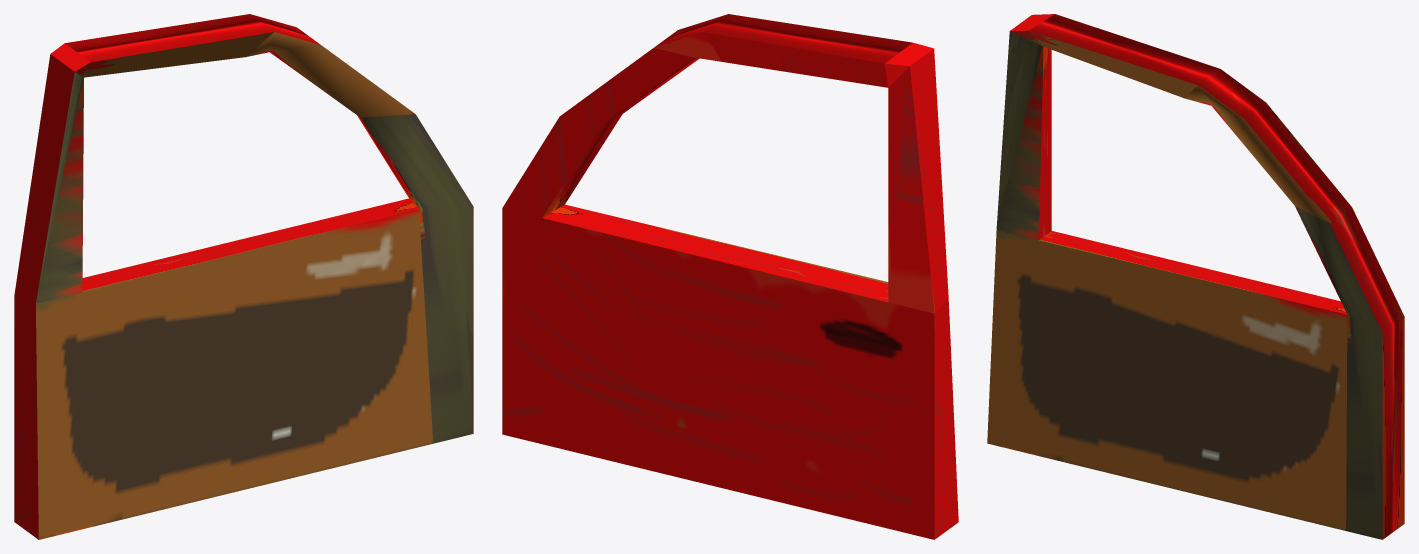
The model's file is CarDoor 1.fbx.
3 views of the same model, side by side, from view 1: azimuth 30°, elevation 25°; view 2: azimuth 150°, elevation 25°; view 3: azimuth 330°, elevation 25° (orthographic). The views are drawn at different scales.
Parts seen in each view (by area): view 1: Cube; view 2: Cube; view 3: Cube.
Boxes of the visible parts, left/top/right/bottom form: Cube: left=14, top=14, right=473, bottom=539; Cube: left=502, top=14, right=958, bottom=539; Cube: left=987, top=14, right=1404, bottom=539.
Bounding box in the file's own units: 200 × 206 × 23.84.
Materials: 1 (1 with a texture image).
